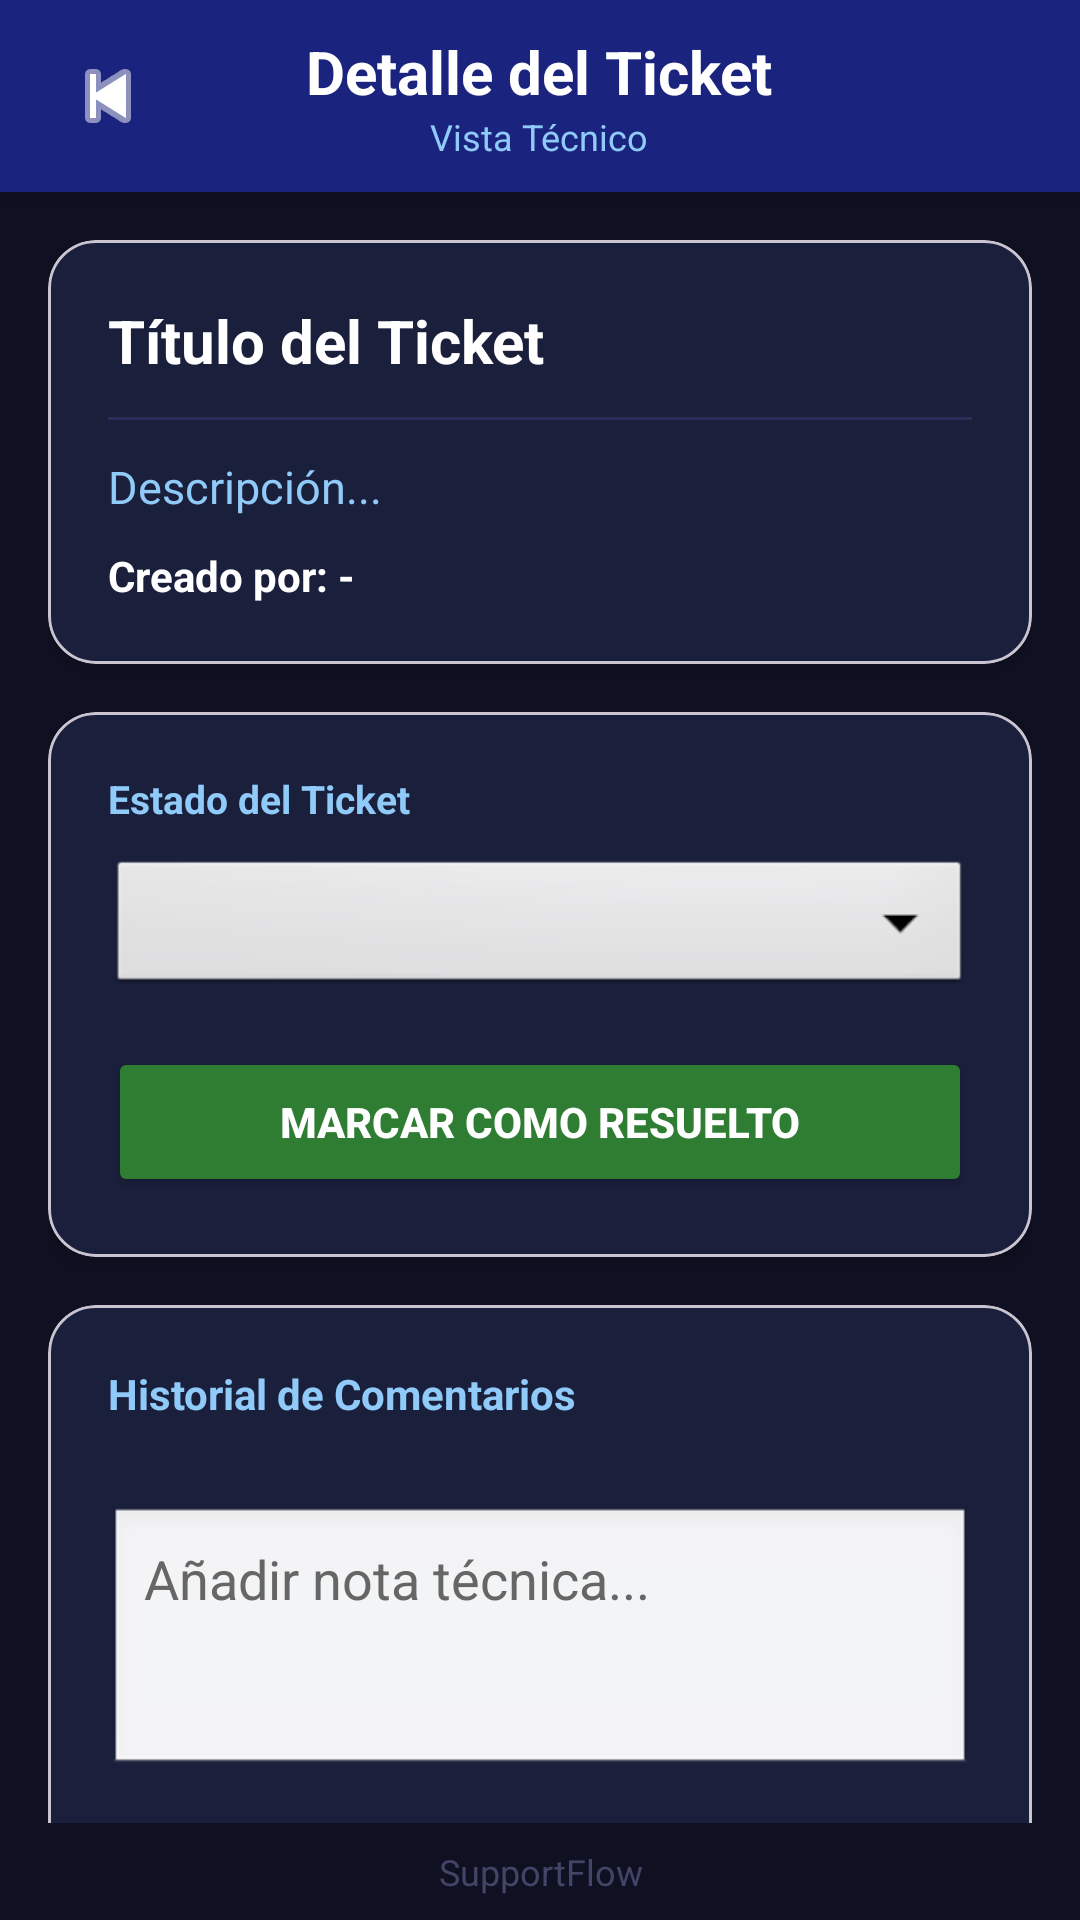

Icon bounding boxes for this 1080 × 1920 phone screenshot, format (x1, y1, x2, y2):
Regresar: (85, 69, 131, 123)
